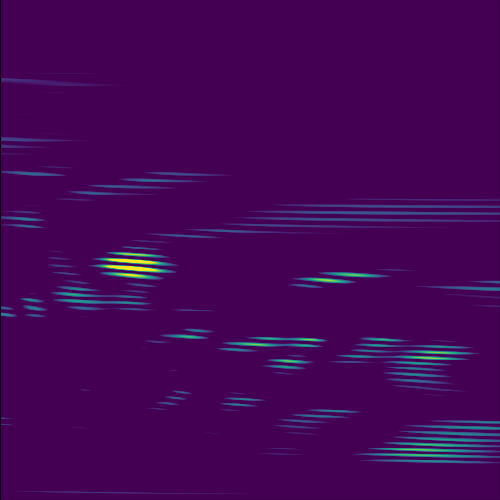semblance: (91, 250, 181, 281)
